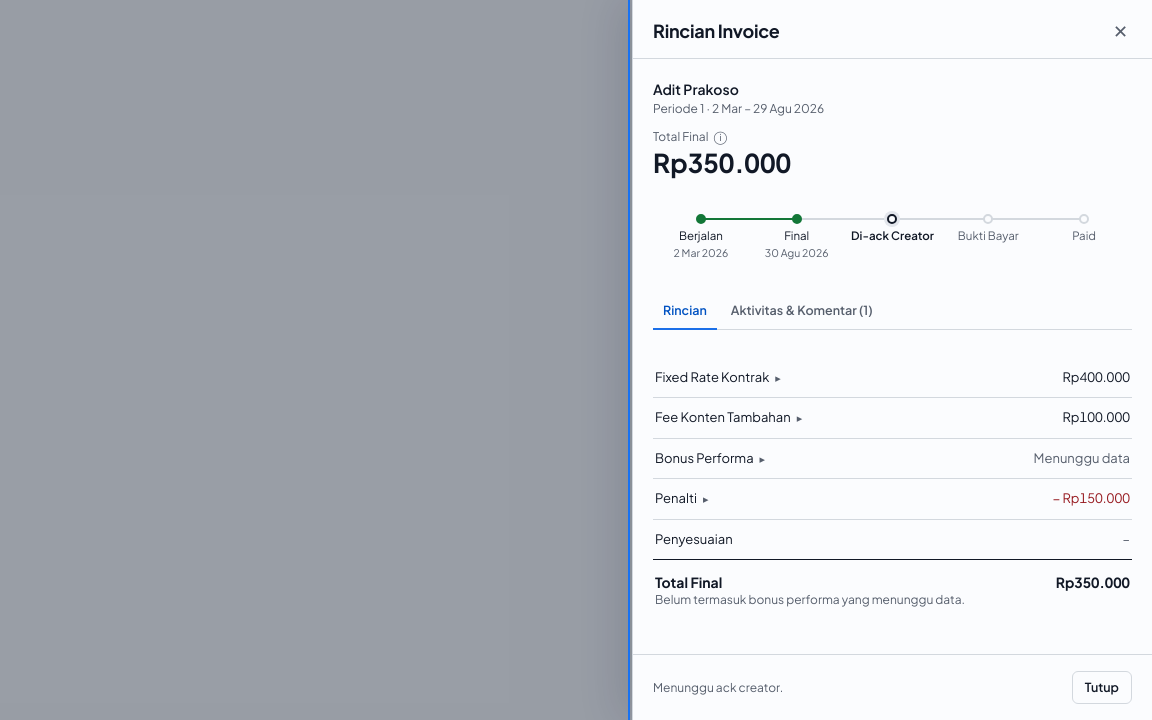
it: InvoiceRincian › keeps the activity and the thread behind their own tab, with the steps in the admin's words
Check: the text "Utas komentar" is not shown
Click the tab "Aktivitas & Komentar (1)" at (802, 312), box [721,293,883,330]
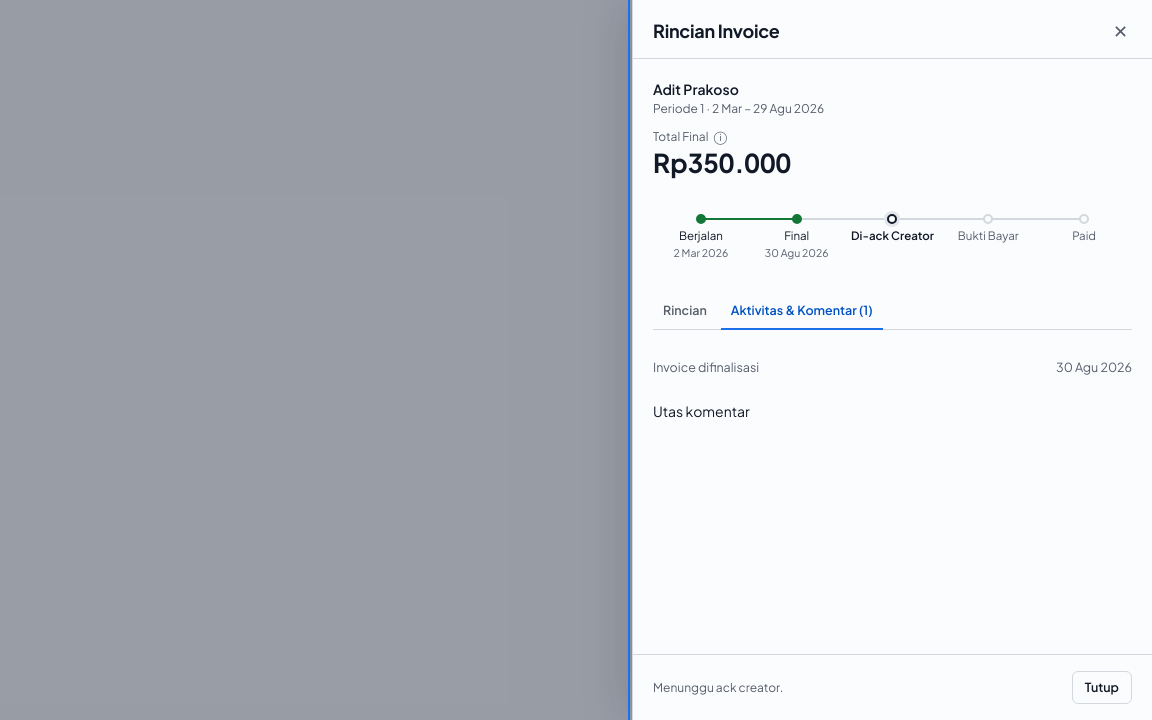
Check: the text "Invoice difinalisasi" is shown, box [653,358,759,377]
Check: the text "30 Agu 2026" in the row of "Invoice difinalisasi" is shown, box [1056,359,1132,375]
Check: the text "Utas komentar" is shown, box [653,402,750,420]
